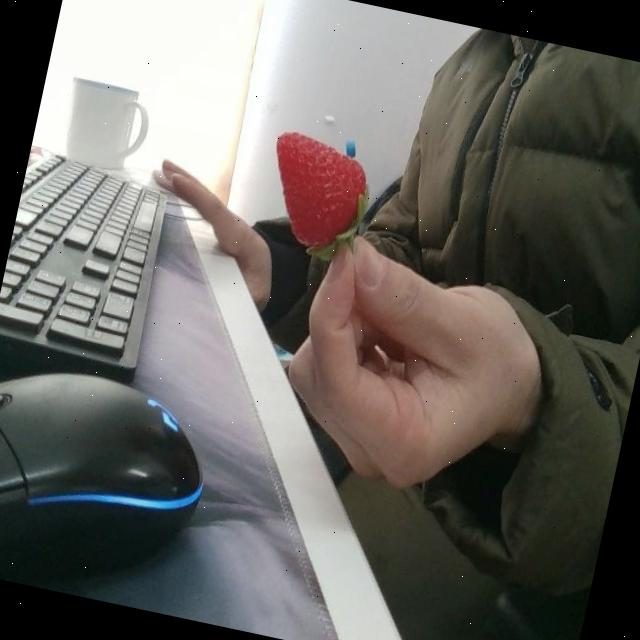strawberry: (254, 126, 376, 256)
